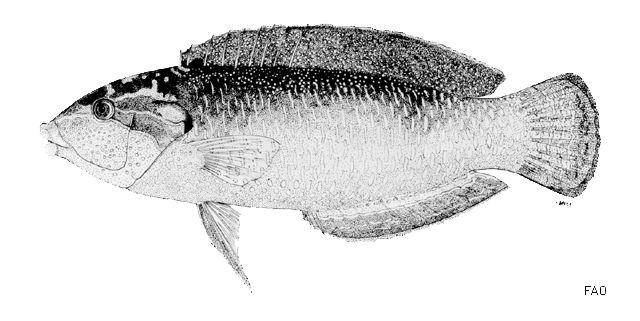fish: (40, 24, 600, 291)
